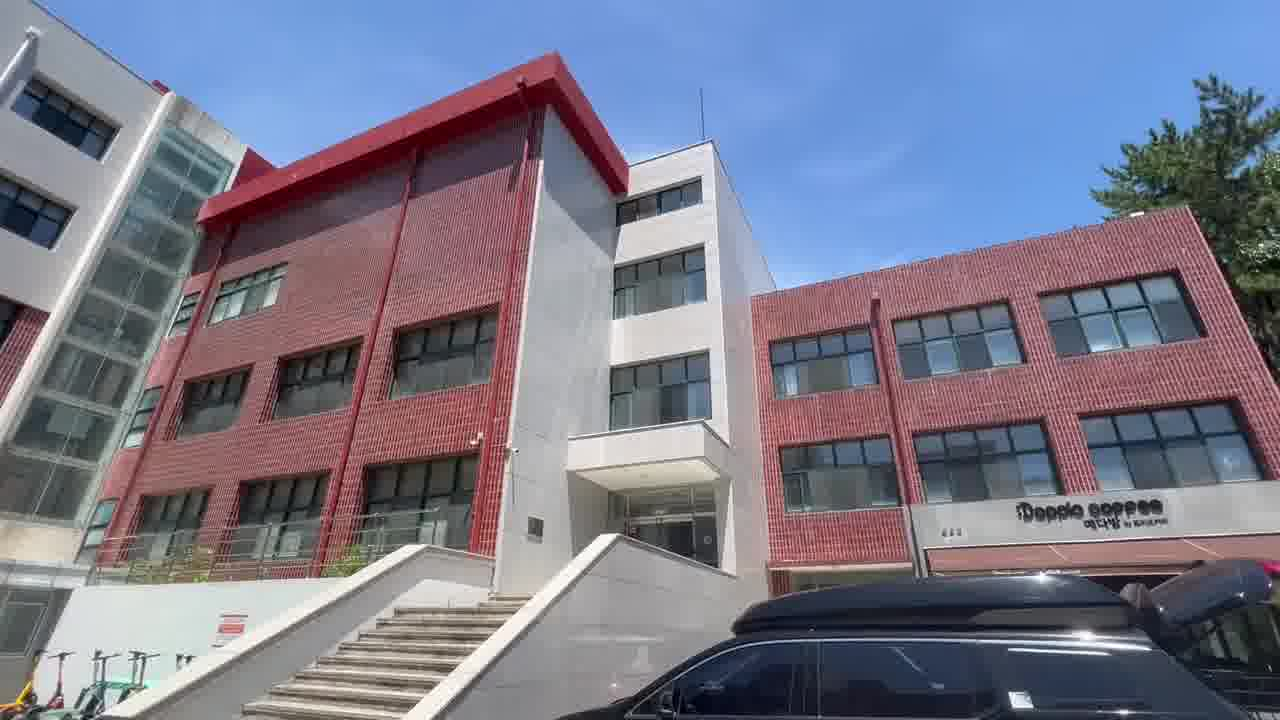medium: (47, 52, 1240, 584)
